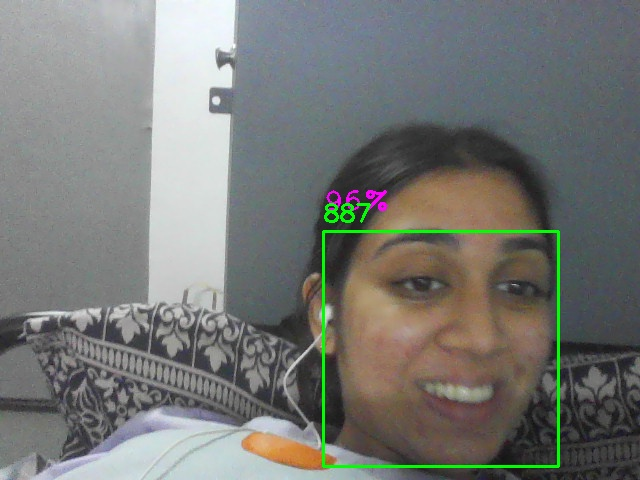real: (323, 231, 559, 467)
